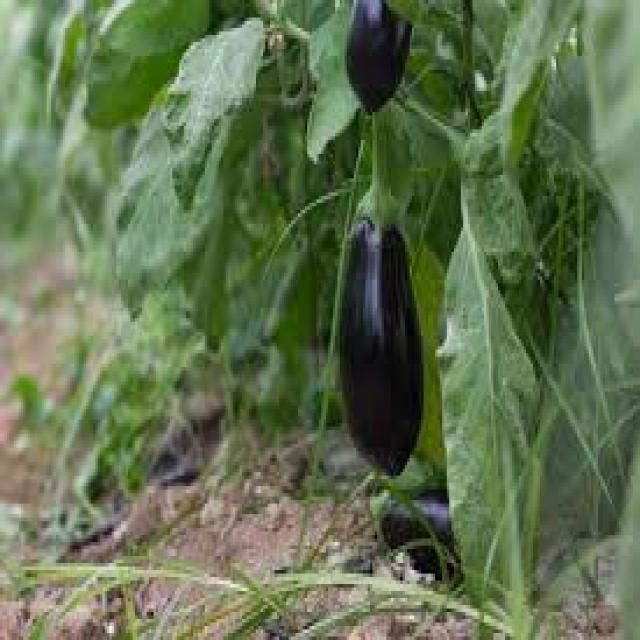Eggplant: (333, 130, 429, 473), (368, 486, 524, 584), (346, 0, 420, 110)
